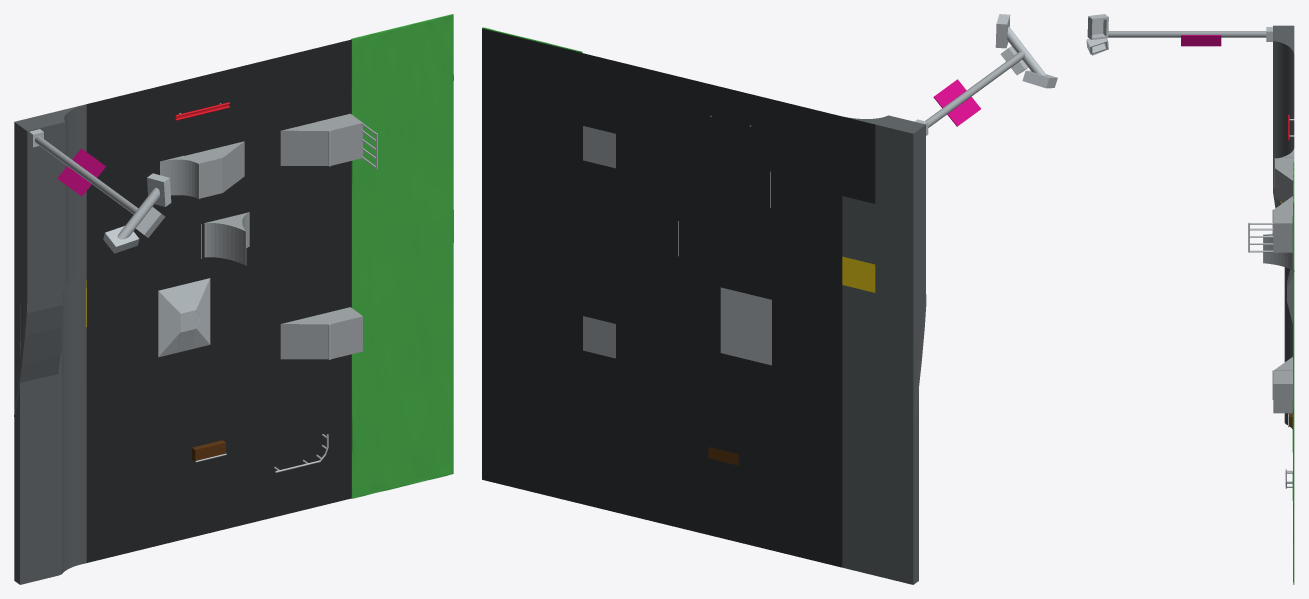
Rendered from Skatepark_Varennes.obj.
3 views of the same model, side by side, from view 1: azimuth 30°, elevation 25°; view 2: azimuth 150°, elevation 25°; view 3: azimuth 270°, elevation 25° (orthographic). The views are drawn at different scales.
Visible parts, largest first — view 1: group_0_2829873, group_0_4634441, group_0_6383466, group_0_10988977, group_0_12568524, group_0_14093196; view 2: group_0_2829873, group_0_6383466, group_0_12568524, group_0_10988977, group_0_16768282, group_0_14093196; view 3: group_0_10988977, group_0_6383466, group_0_12568524, group_0_4634441, group_0_14093196.
Part boxes in pixels (x1,y1,x2,y2): group_0_2829873: [86, 39, 351, 562]; group_0_4634441: [351, 14, 453, 498]; group_0_6383466: [14, 104, 86, 584]; group_0_10988977: [35, 113, 362, 359]; group_0_12568524: [29, 103, 377, 472]; group_0_14093196: [57, 148, 105, 196]; group_0_2829873: [482, 28, 875, 567]; group_0_6383466: [842, 115, 926, 584]; group_0_12568524: [710, 14, 1057, 365]; group_0_10988977: [583, 51, 1024, 358]; group_0_16768282: [842, 256, 875, 292]; group_0_14093196: [933, 79, 980, 126]; group_0_10988977: [1108, 31, 1294, 413]; group_0_6383466: [1273, 25, 1294, 428]; group_0_12568524: [1086, 14, 1294, 488]; group_0_4634441: [1292, 161, 1294, 584]; group_0_14093196: [1181, 35, 1221, 46].
Bounding box in the file's own units: 275 × 275 × 129.
